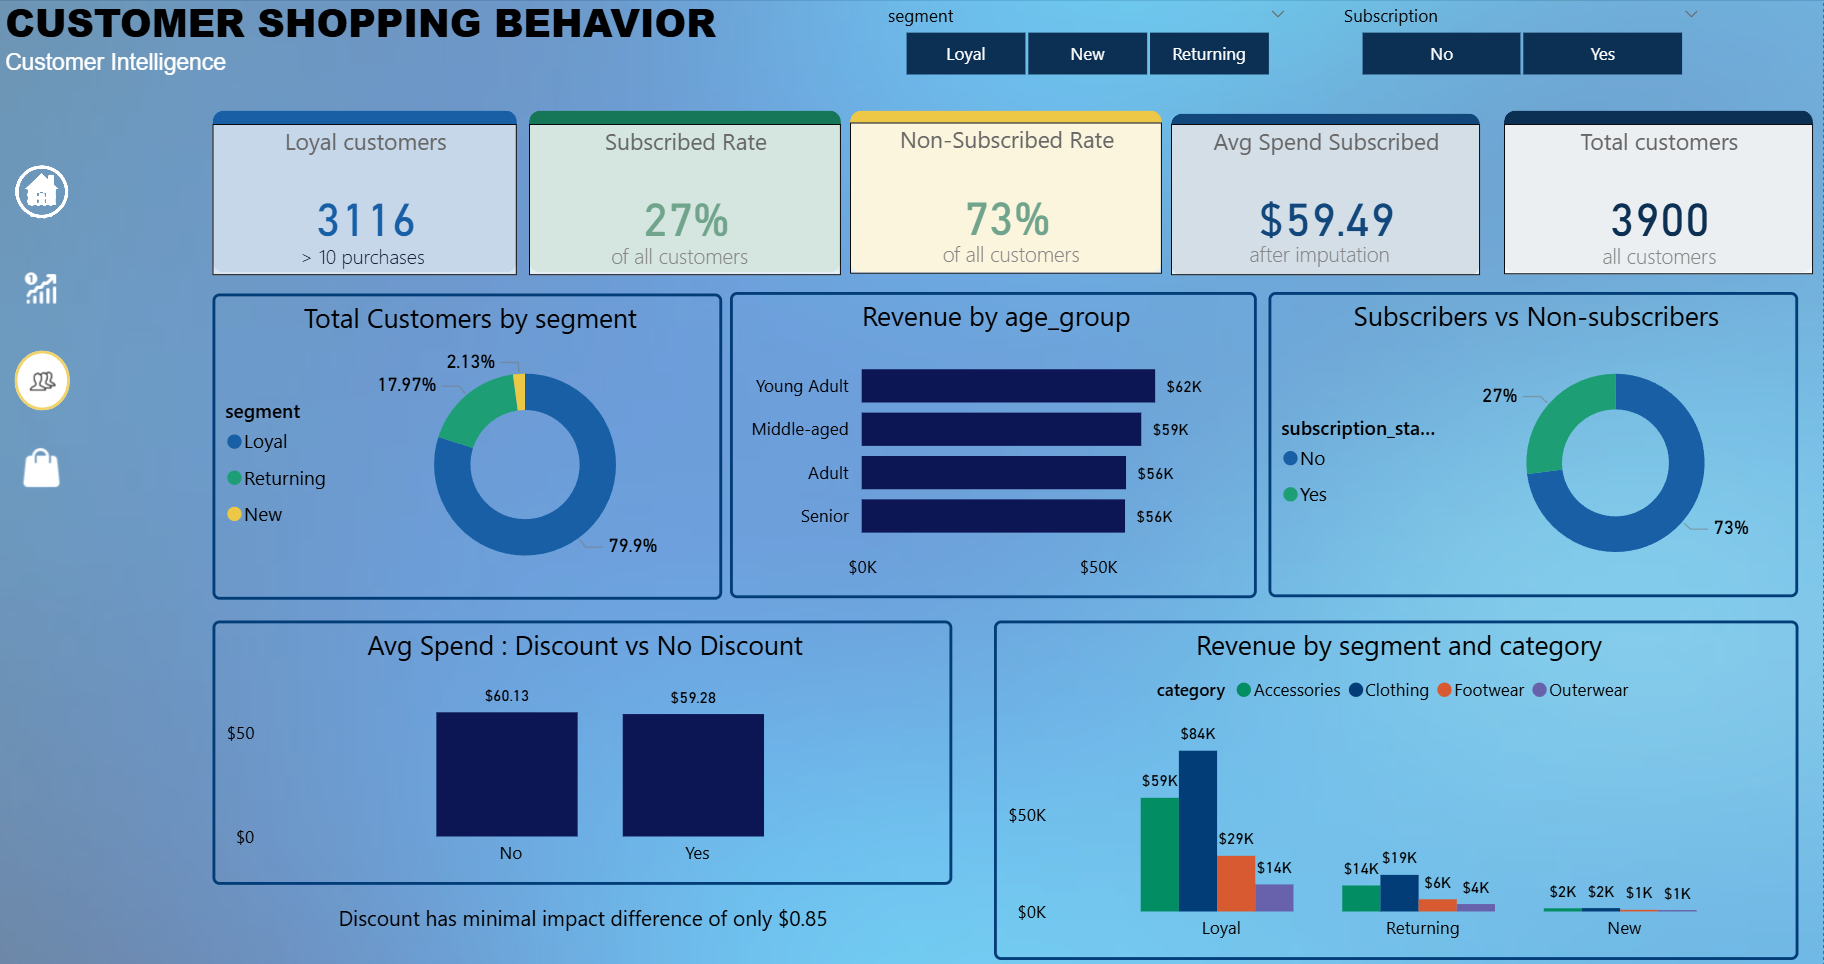

This screenshot's page, from the dashboard's own definition file:
{"tool":"powerbi","page":{"name":"Customer Intelligence","canvas":[1280,720],"ordinal":2},"visuals":[{"type":"textbox","box":[0,15.8,521.6,74.7],"z":0},{"type":"shape","box":[150.4,102,213.5,113.6],"z":1000},{"type":"card","title":"Loyal customers","fields":{"Values":["A_measures.Loyal_customer"]},"box":[150.4,111.5,213.5,106.2],"z":2000},{"type":"textbox","box":[180.9,189.3,149.3,41],"z":3000},{"type":"shape","box":[372.3,102,218.7,113.6],"z":4000},{"type":"card","title":"Subscribed Rate","fields":{"Values":["A_measures.Subscribed Rate"]},"box":[372.3,111.5,218.7,106.2],"z":5000},{"type":"shape","box":[822.4,104.1,216.6,113.6],"z":6000},{"type":"card","title":"Avg Spend Subscribed","fields":{"Values":["A_measures.Avg Spend Subscribed"]},"box":[822.4,111.5,216.6,106.2],"z":7000},{"type":"textbox","box":[400.7,188.2,154.6,41],"z":8000},{"type":"textbox","box":[849.7,187.2,153.5,40],"z":9000},{"type":"shape","box":[1055.8,102,216.6,113.6],"z":10000},{"type":"card","title":"Total customers","fields":{"Values":["A_measures.Total Customers"]},"box":[1055.8,111.5,216.6,105.2],"z":11000},{"type":"donutChart","fields":{"Category":["customer.segment"],"Y":["A_measures.Total Customers"]},"box":[150.4,230.3,357.6,214.5],"z":12000},{"type":"clusteredBarChart","fields":{"Category":["customer.age_group"],"Y":["A_measures.Revenue"]},"box":[513.2,229.3,369.1,214.5],"z":13000},{"type":"donutChart","title":"Subscribers vs Non-subscribers","fields":{"Category":["customer.subscription_status"],"Y":["A_measures.Total Customers"]},"box":[890.6,229.4,371.5,214.3],"z":14000},{"type":"clusteredColumnChart","title":"Avg Spend : Discount vs No Discount","fields":{"Category":["customer.discount_applied"],"Y":["A_measures.Averge_purchase_amount"]},"box":[150.4,459.6,518.4,185.1],"z":15000},{"type":"shape","box":[149.3,644.6,521.6,46.3],"z":16000},{"type":"clusteredColumnChart","fields":{"Category":["customer.segment"],"Series":["customer.category"],"Y":["A_measures.Revenue"]},"box":[698.3,459.6,563.7,237.7],"z":17000},{"type":"slicer","fields":{"Values":["customer.segment"]},"box":[610.9,22.4,303.8,61.8],"z":18000},{"type":"slicer","fields":{"Values":["customer.subscription_status"]},"box":[930.7,22.4,274,61.8],"z":19000},{"type":"actionButton","box":[5.3,201.9,50.5,50.5],"z":20000},{"type":"shape","box":[597.3,102,218.7,113.6],"z":21000},{"type":"card","title":"Non-Subscribed Rate","fields":{"Values":["A_measures.Non_Subscripe%"]},"box":[597.3,110.4,218.7,106.2],"z":22000},{"type":"textbox","box":[633.1,187.2,154.6,41],"z":23000},{"type":"textbox","box":[1087.4,188.2,154.6,41],"z":24000},{"type":"image","box":[0,134.6,61,48.4],"z":25000},{"type":"actionButton","box":[10.5,333.4,50.5,40],"z":26000},{"type":"actionButton","box":[11.6,270.3,38.9,42.1],"z":27000}]}

Visuals, with their boxes in screenshot pixels (x1, y1, x2, y2):
textbox: <region>0, 0, 740, 90</region>
shape: <region>214, 107, 517, 268</region>
"Loyal customers" card: <region>214, 120, 517, 271</region>
textbox: <region>257, 231, 469, 289</region>
shape: <region>529, 107, 839, 268</region>
"Subscribed Rate" card: <region>529, 120, 839, 271</region>
shape: <region>1167, 110, 1475, 271</region>
"Avg Spend Subscribed" card: <region>1167, 120, 1475, 271</region>
textbox: <region>569, 229, 788, 287</region>
textbox: <region>1206, 228, 1424, 285</region>
shape: <region>1499, 107, 1806, 268</region>
"Total customers" card: <region>1499, 120, 1806, 270</region>
donutChart - customer.segment x A_measures.Total Customers: <region>214, 289, 721, 593</region>
clusteredBarChart - customer.age_group x A_measures.Revenue: <region>729, 288, 1253, 592</region>
"Subscribers vs Non-subscribers" donutChart: <region>1264, 288, 1792, 592</region>
"Avg Spend : Discount vs No Discount" clusteredColumnChart: <region>214, 614, 949, 877</region>
shape: <region>212, 877, 952, 943</region>
clusteredColumnChart - customer.segment x customer.category: <region>991, 614, 1792, 952</region>
slicer - customer.segment: <region>867, 0, 1298, 82</region>
slicer - customer.subscription_status: <region>1321, 0, 1710, 82</region>
actionButton: <region>8, 249, 79, 320</region>
shape: <region>848, 107, 1158, 268</region>
"Non-Subscribed Rate" card: <region>848, 119, 1158, 269</region>
textbox: <region>899, 228, 1118, 286</region>
textbox: <region>1544, 229, 1763, 287</region>
image: <region>0, 153, 87, 222</region>
actionButton: <region>15, 435, 87, 492</region>
actionButton: <region>16, 346, 72, 405</region>
